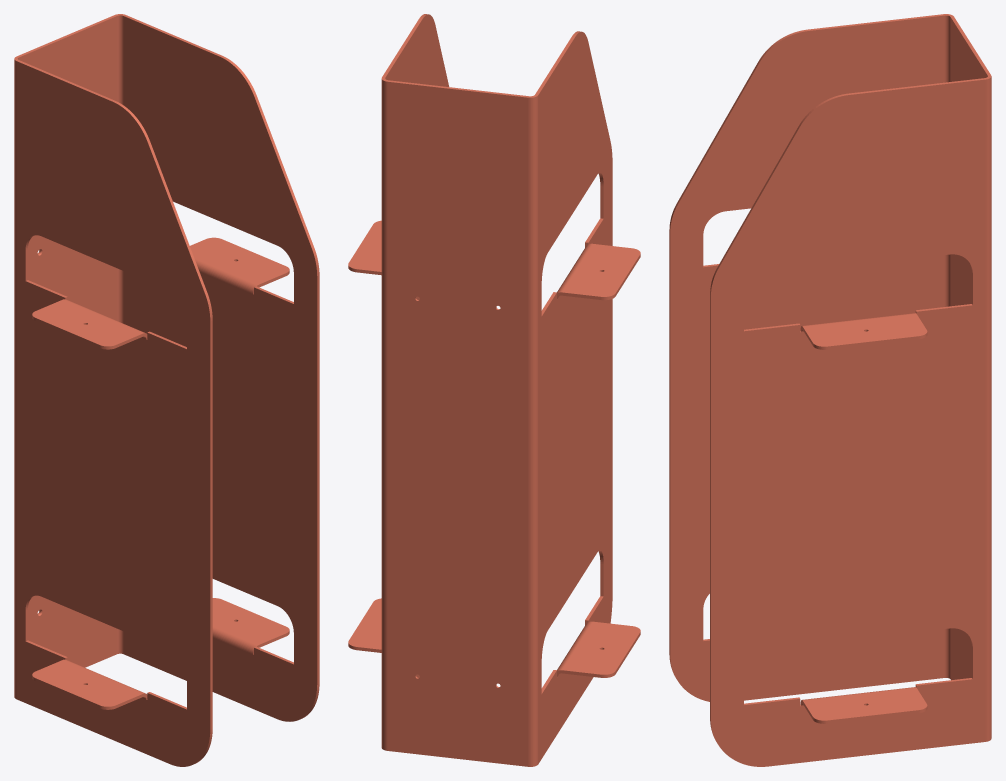
The model's file is Butterfly.glb.
The picture shows the model from 3 angles, left to right: view 1: azimuth 30°, elevation 25°; view 2: azimuth 150°, elevation 25°; view 3: azimuth 270°, elevation 25°; orthographic projection. The views are drawn at different scales.
Visible parts, largest first — view 1: Shape_IndexedFaceSet.054, Shape_IndexedFaceSet.038, Shape_IndexedFaceSet, Shape_IndexedFaceSet.079, Shape_IndexedFaceSet.103, Shape_IndexedFaceSet.109, Shape_IndexedFaceSet.126, Shape_IndexedFaceSet.048, Shape_IndexedFaceSet.059, Shape_IndexedFaceSet.134, Shape_IndexedFaceSet.042, Shape_IndexedFaceSet.113 (+3 smaller); view 2: Shape_IndexedFaceSet.045, Shape_IndexedFaceSet.054, Shape_IndexedFaceSet.048, Shape_IndexedFaceSet.039, Shape_IndexedFaceSet.103, Shape_IndexedFaceSet.079, Shape_IndexedFaceSet.038, Shape_IndexedFaceSet.126, Shape_IndexedFaceSet.109; view 3: Shape_IndexedFaceSet.037, Shape_IndexedFaceSet.085, Shape_IndexedFaceSet.039, Shape_IndexedFaceSet, Shape_IndexedFaceSet.109, Shape_IndexedFaceSet.126, Shape_IndexedFaceSet.051, Shape_IndexedFaceSet.059.
Boxes of the visible parts, x1,y1,x2,y2 form: Shape_IndexedFaceSet.054: (16,61,210,766); Shape_IndexedFaceSet.038: (123,16,317,721); Shape_IndexedFaceSet: (19,16,116,667); Shape_IndexedFaceSet.079: (32,299,142,346); Shape_IndexedFaceSet.103: (32,660,142,706); Shape_IndexedFaceSet.109: (190,237,289,284); Shape_IndexedFaceSet.126: (212,598,289,644); Shape_IndexedFaceSet.048: (14,59,16,699); Shape_IndexedFaceSet.059: (210,320,212,729); Shape_IndexedFaceSet.134: (317,275,319,684); Shape_IndexedFaceSet.042: (117,15,123,653); Shape_IndexedFaceSet.113: (194,257,258,293); Shape_IndexedFaceSet.045: (387,82,527,766); Shape_IndexedFaceSet.054: (538,31,612,763); Shape_IndexedFaceSet.048: (528,95,538,766); Shape_IndexedFaceSet.039: (381,79,387,750); Shape_IndexedFaceSet.103: (562,621,640,674); Shape_IndexedFaceSet.079: (562,244,640,296); Shape_IndexedFaceSet.038: (385,14,449,677); Shape_IndexedFaceSet.126: (348,598,381,649); Shape_IndexedFaceSet.109: (348,220,381,271); Shape_IndexedFaceSet.037: (711,79,985,766); Shape_IndexedFaceSet.085: (670,15,944,701); Shape_IndexedFaceSet.039: (985,76,991,741); Shape_IndexedFaceSet: (950,17,987,680); Shape_IndexedFaceSet.109: (803,313,927,346); Shape_IndexedFaceSet.126: (803,687,927,720); Shape_IndexedFaceSet.051: (944,15,950,678); Shape_IndexedFaceSet.059: (669,230,670,654).
Size of the model in its own units: 1.23 by 3.1 by 1.37.
